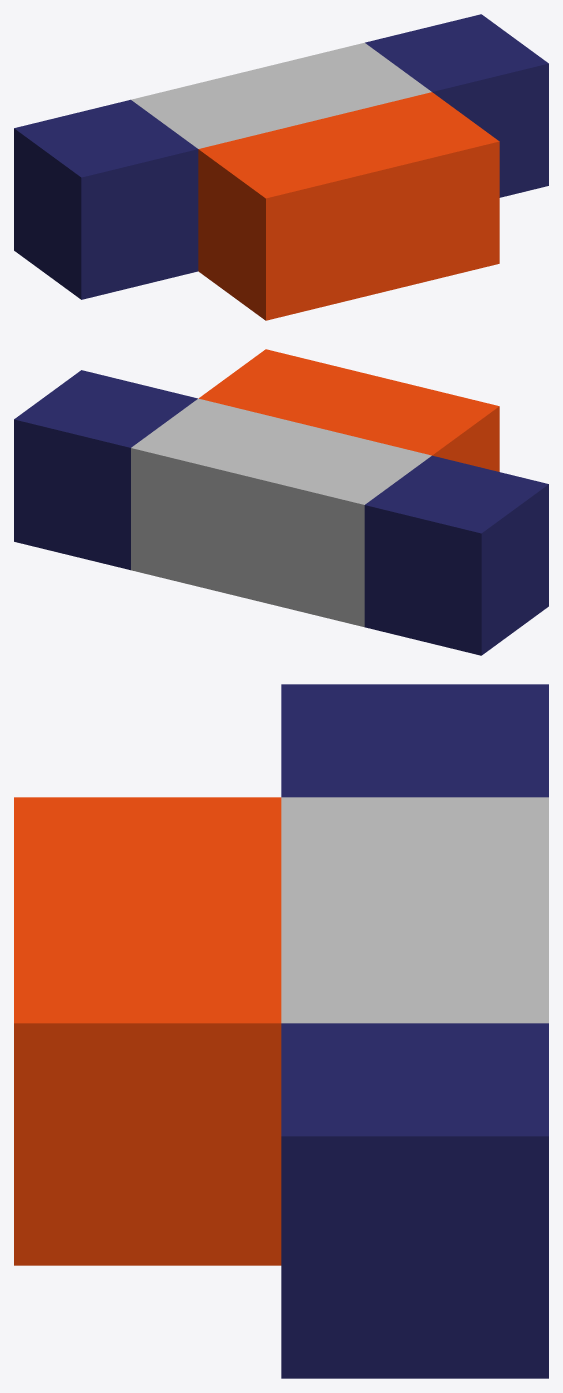
File: spaceman_level_5.glb
The picture shows the model from 3 angles, top to bottom: view 1: azimuth 30°, elevation 25°; view 2: azimuth 150°, elevation 25°; view 3: azimuth 270°, elevation 25°; orthographic projection. The views are drawn at different scales.
Size of the model in its own units: 4 by 1 by 2.
